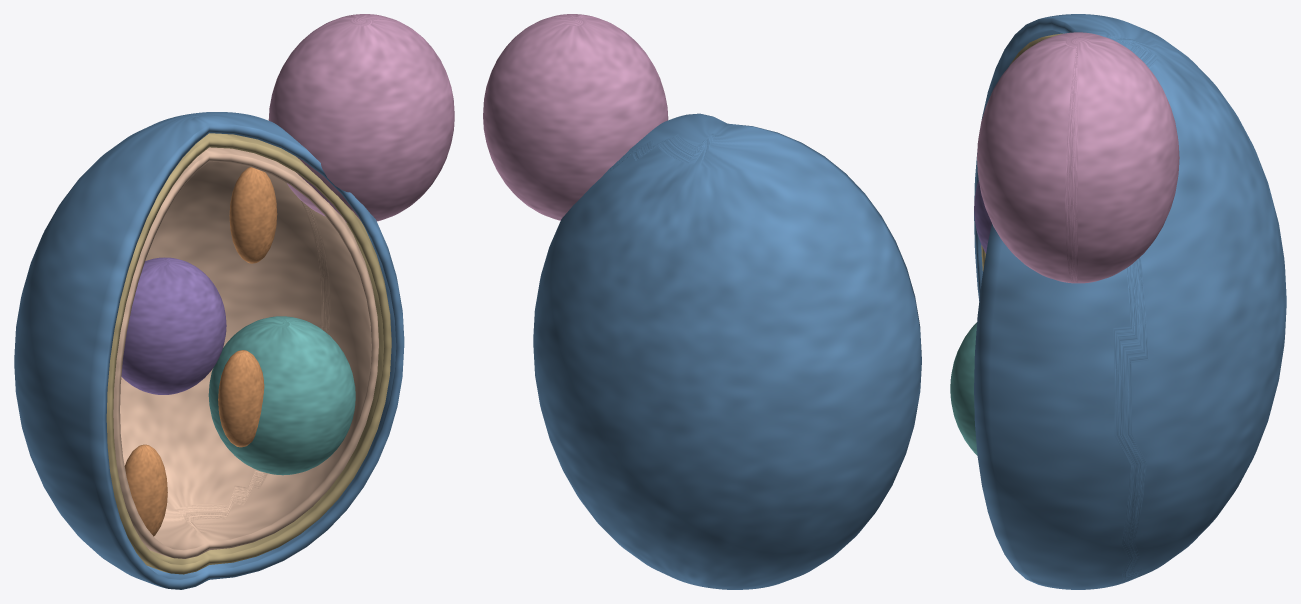
File: cutaway.glb
3 views of the same model, side by side, from view 1: azimuth 30°, elevation 25°; view 2: azimuth 150°, elevation 25°; view 3: azimuth 270°, elevation 25° (orthographic). The views are drawn at different scales.
Parts seen in each view (by area): view 1: citoplasma_mesh, parede_mesh, broto_mesh, vacuolo_mesh, membrana_mesh, nucleo_mesh, mitocondrias_mesh; view 2: parede_mesh, broto_mesh; view 3: parede_mesh, broto_mesh, vacuolo_mesh, nucleo_mesh.
Part boxes in pixels (box(x1,y1,x2,y2)): citoplasma_mesh: box(113, 147, 378, 558); parede_mesh: box(14, 112, 404, 589); broto_mesh: box(268, 14, 454, 222); vacuolo_mesh: box(208, 316, 355, 475); membrana_mesh: box(106, 133, 391, 574); nucleo_mesh: box(121, 257, 226, 394); mitocondrias_mesh: box(124, 167, 277, 536); parede_mesh: box(533, 113, 921, 589); broto_mesh: box(483, 14, 668, 220); parede_mesh: box(974, 14, 1286, 589); broto_mesh: box(977, 32, 1179, 283); vacuolo_mesh: box(950, 322, 977, 455); nucleo_mesh: box(974, 180, 991, 253).
Size of the model in its own units: 1.88 by 2.29 by 1.13.
Materials: 7 (7 with a texture image).
